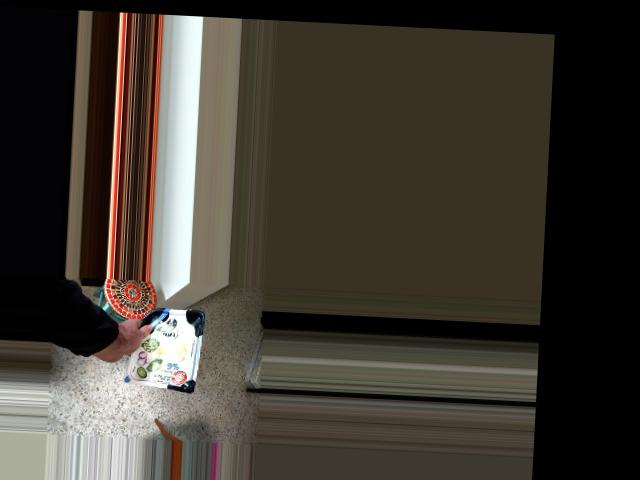cheese: (99, 306, 187, 392)
